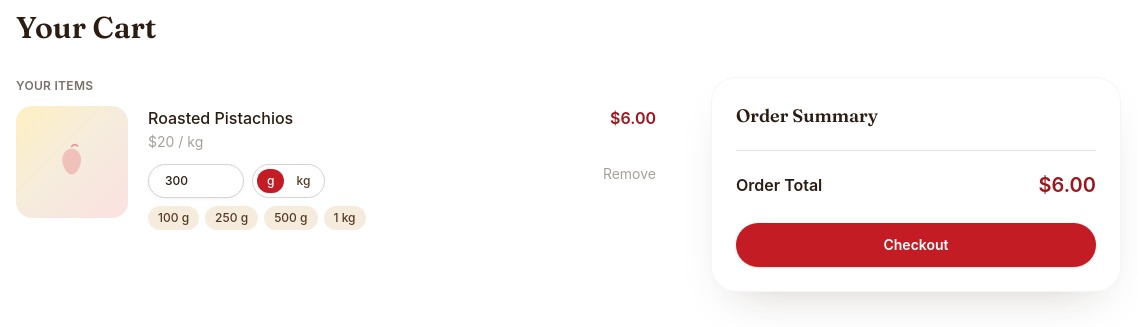
Test: CartPage › changing the weight preset updates that line and the total
Click the button "1 kg" at [345, 218], box [324, 206, 366, 230]
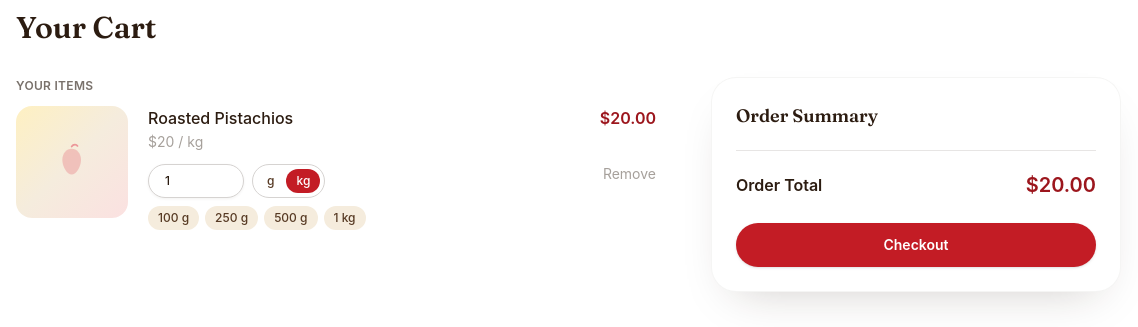
Expected: the text "$20.00" in the row of "Roasted Pistachios" is shown, [600, 108, 656, 128]
